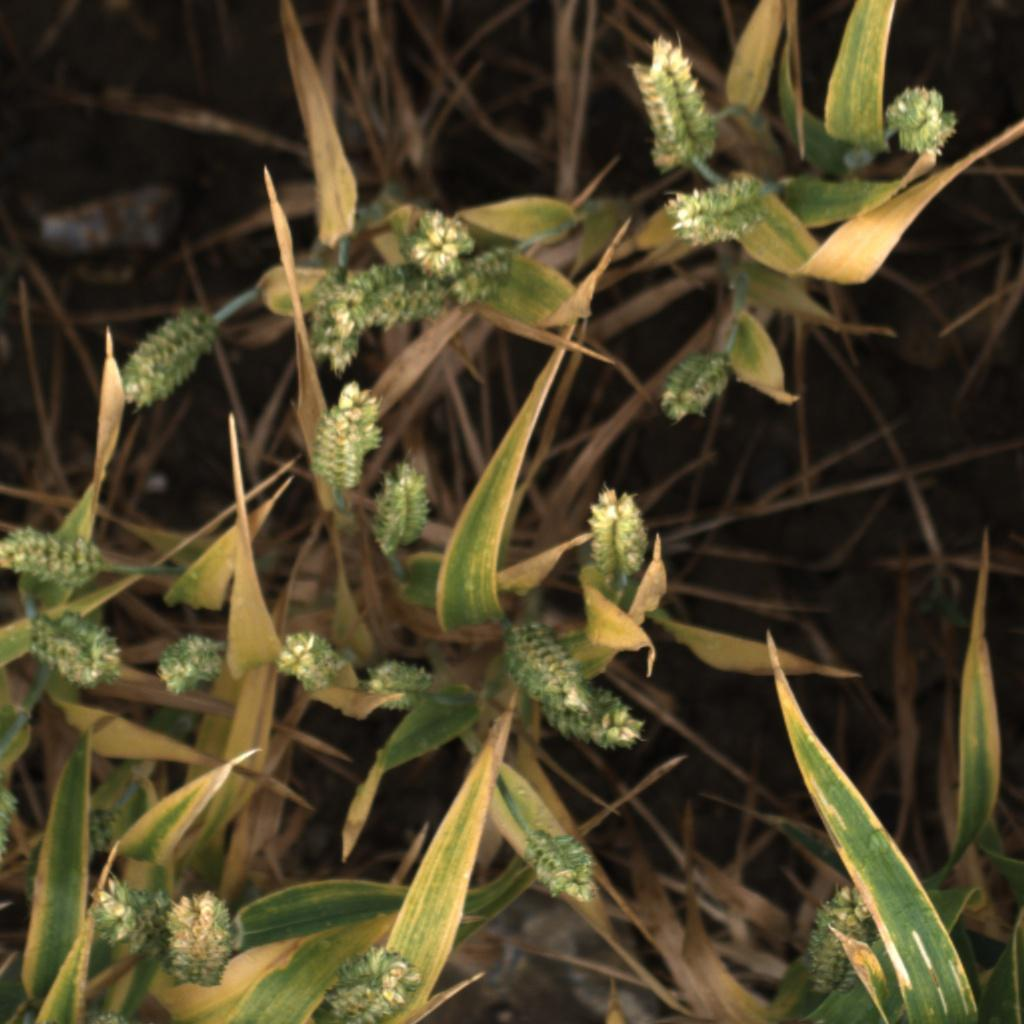0-0: (623, 32, 719, 170), (14, 804, 122, 902), (120, 308, 215, 412), (663, 169, 786, 248), (338, 259, 454, 338), (794, 883, 874, 996), (313, 377, 383, 497), (507, 615, 589, 716), (25, 609, 123, 691), (531, 685, 645, 754), (321, 946, 421, 1024), (587, 483, 656, 596), (84, 864, 164, 955), (0, 527, 109, 591), (165, 887, 232, 990), (306, 260, 368, 370), (371, 461, 434, 558), (886, 83, 963, 159), (523, 833, 601, 907), (655, 353, 727, 424), (407, 208, 479, 277), (272, 627, 345, 694), (152, 635, 224, 699), (450, 245, 517, 310), (364, 659, 432, 717)
